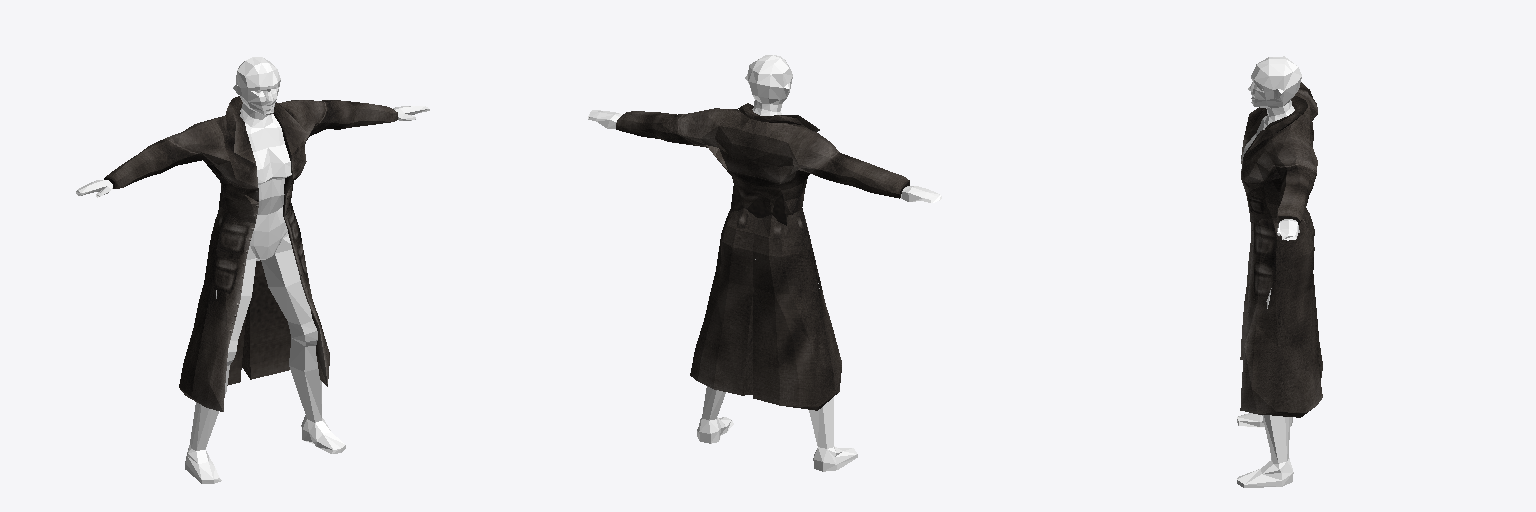
3 renders of one model, left to right at view 1: azimuth 30°, elevation 25°; view 2: azimuth 150°, elevation 25°; view 3: azimuth 270°, elevation 25°, orthographic.
Parts seen in each view (by area): view 1: Armor_Female_duster_coat, Female_body; view 2: Armor_Female_duster_coat, Female_body; view 3: Armor_Female_duster_coat, Female_body.
Boxes of the visible parts, box(x1,y1,x2,y2) form: Armor_Female_duster_coat: box(104, 96, 397, 411); Female_body: box(76, 57, 429, 483); Armor_Female_duster_coat: box(616, 103, 909, 410); Female_body: box(588, 55, 941, 471); Armor_Female_duster_coat: box(1240, 82, 1322, 417); Female_body: box(1237, 56, 1301, 487).
Size of the model in its own units: 88.8 by 95.33 by 18.95.
Materials: 3 (1 with a texture image).